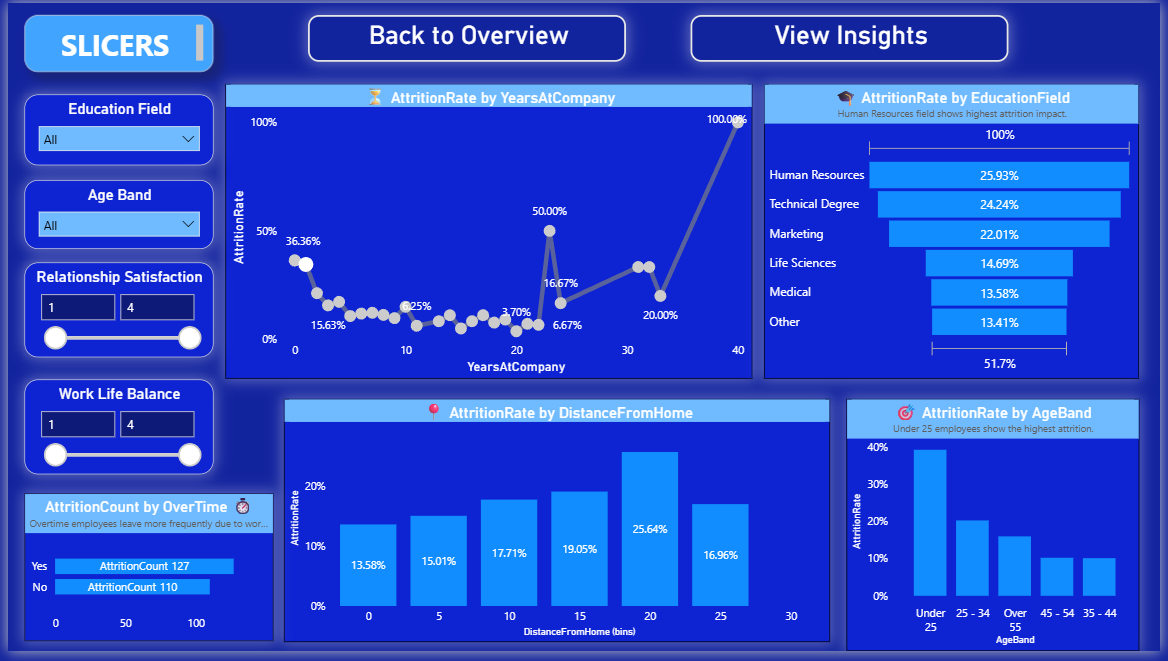

What the dashboard file says about the page in this screenshot:
{"tool":"powerbi","page":{"name":"Attribution Deep Dive","canvas":[1280,720],"ordinal":1},"visuals":[{"type":"lineChart","title":"⏳ AttritionRate by YearsAtCompany ","fields":{"Y":["hr_attrition1.AttritionRate"],"Category":["hr_attrition1.YearsAtCompany"]},"box":[241.8,90.7,585.3,327.7],"z":0},{"type":"columnChart","title":"📍 AttritionRate by DistanceFromHome ","fields":{"Y":["hr_attrition1.AttritionRate"],"Category":["hr_attrition1.DistanceFromHome (bins)"]},"box":[306.7,440,606.7,270],"z":1000},{"type":"barChart","title":"AttritionCount by OverTime ⏱️","fields":{"Category":["hr_attrition1.OverTime"],"Y":["hr_attrition1.AttritionCount"]},"box":[19.1,545.6,276.8,163.8],"z":2000},{"type":"slicer","title":"Age Band ","fields":{"Values":["hr_attrition1.AgeBand"]},"box":[18.3,196.7,210,76.7],"z":3000},{"type":"slicer","title":"Education Field","fields":{"Values":["hr_attrition1.EducationField"]},"box":[18.3,101.7,210,78.3],"z":4000},{"type":"columnChart","title":" 🎯 AttritionRate by AgeBand","fields":{"Category":["hr_attrition1.AgeBand"],"Y":["hr_attrition1.AttritionRate"]},"box":[931.7,440,325,280],"z":5000},{"type":"funnel","title":"🎓 AttritionRate by EducationField ","fields":{"Category":["hr_attrition1.EducationField"],"Y":["hr_attrition1.AttritionRate_ByEducation"]},"box":[839.8,90.7,416.7,327.7],"z":6000},{"type":"slicer","title":"Work Life Balance ","fields":{"Values":["hr_attrition1.WorkLifeBalance"]},"box":[18.3,418.3,210,105],"z":7000},{"type":"slicer","title":"Relationship Satisfaction","fields":{"Values":["hr_attrition1.RelationshipSatisfaction"]},"box":[18.3,288.3,210,105],"z":8000},{"type":"textbox","box":[18.3,13.3,210,63.3],"z":9000},{"type":"actionButton","title":"Back to Overview","box":[333.3,13.3,353.3,51.7],"z":10000},{"type":"actionButton","title":"View Insights","box":[758.3,13.3,353,51.7],"z":11000}]}

Visuals, with their boxes in screenshot pixels (x1, y1, x2, y2), scaled from the page's 1280x720 canvas onto the 1168x661 screenshot:
"⏳ AttritionRate by YearsAtCompany " lineChart: [x1=221, y1=83, x2=755, y2=384]
"📍 AttritionRate by DistanceFromHome " columnChart: [x1=280, y1=404, x2=833, y2=652]
"AttritionCount by OverTime ⏱️" barChart: [x1=17, y1=501, x2=270, y2=651]
"Age Band " slicer: [x1=17, y1=181, x2=208, y2=251]
"Education Field" slicer: [x1=17, y1=93, x2=208, y2=165]
" 🎯 AttritionRate by AgeBand" columnChart: [x1=850, y1=404, x2=1147, y2=660]
"🎓 AttritionRate by EducationField " funnel: [x1=766, y1=83, x2=1147, y2=384]
"Work Life Balance " slicer: [x1=17, y1=384, x2=208, y2=480]
"Relationship Satisfaction" slicer: [x1=17, y1=265, x2=208, y2=361]
textbox: [x1=17, y1=12, x2=208, y2=70]
"Back to Overview" actionButton: [x1=304, y1=12, x2=627, y2=60]
"View Insights" actionButton: [x1=692, y1=12, x2=1014, y2=60]
